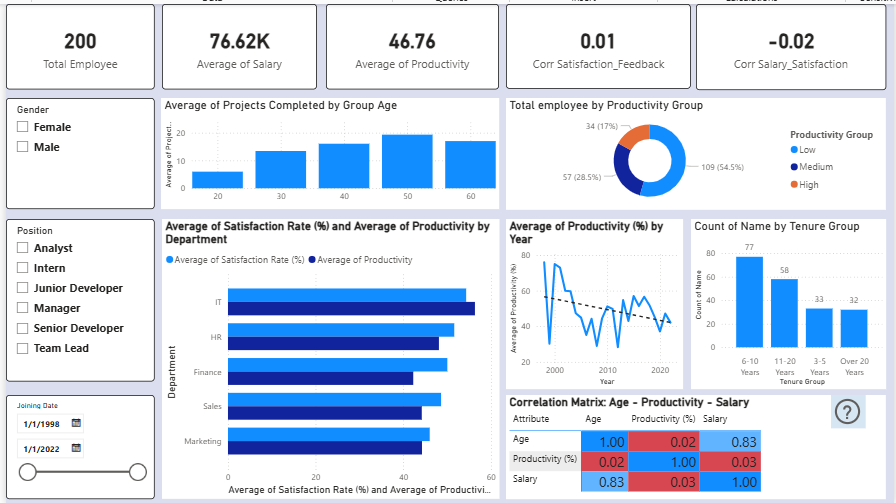

The dashboard page shown, as its layout file describes it:
{"tool":"powerbi","page":{"name":"Page 1","canvas":[1280,720],"ordinal":0},"visuals":[{"type":"clusteredBarChart","fields":{"Category":["cleaned_hr_data.Department"],"Y":["Avg(cleaned_hr_data.Satisfaction Rate (%))","cleaned_hr_data.Average_Productivity"]},"box":[224.3,310,485.7,402.9],"z":0},{"type":"card","fields":{"Values":["cleaned_hr_data.Average_Productivity"]},"box":[461.4,0,248.6,122.9],"z":1000},{"type":"card","fields":{"Values":["cleaned_hr_data.CorrelationScore"]},"box":[720,0,266.4,122.4],"z":2000},{"type":"clusteredColumnChart","fields":{"Category":["cleaned_hr_data.Group Age"],"Y":["Avg(cleaned_hr_data.Projects Completed)"]},"box":[222.9,135.7,487.1,160],"z":3000},{"type":"slicer","fields":{"Values":["cleaned_hr_data.Gender"]},"box":[0,135.7,214.3,160],"z":4000},{"type":"slicer","fields":{"Values":["cleaned_hr_data.Position"]},"box":[0,310,214.3,234.3],"z":5000},{"type":"lineChart","fields":{"Category":["cleaned_hr_data.Joining Date.Variation.Date Hierarchy.Year","cleaned_hr_data.Joining Date.Variation.Date Hierarchy.Quarter","cleaned_hr_data.Joining Date.Variation.Date Hierarchy.Month","cleaned_hr_data.Joining Date.Variation.Date Hierarchy.Day"],"Y":["Avg(cleaned_hr_data.Productivity (%))"]},"box":[720,309.6,254.9,244.8],"z":6000},{"type":"pivotTable","title":"Correlation Matrix: Age - Productivity - Salary","fields":{"Values":["cleaned_hr_data.Heatmap_Values"],"Rows":["Heatmap_Rows.Attribute"],"Columns":["Heatmap_Columns.Attribute"]},"box":[720,563,547.2,149.8],"z":7000},{"type":"card","fields":{"Values":["cleaned_hr_data.CorrelationScore_Salary_Satis"]},"box":[993.6,0,273.6,123.8],"z":8000},{"type":"card","fields":{"Values":["Count(cleaned_hr_data.Name)"]},"box":[0,0,214.3,122.9],"z":9000},{"type":"slicer","fields":{"Values":["cleaned_hr_data.Joining Date"]},"box":[0,562.9,214.3,150],"z":10000},{"type":"card","fields":{"Values":["Avg(cleaned_hr_data.Salary)"]},"box":[224.3,0,222.9,122.9],"z":11000},{"type":"donutChart","fields":{"Category":["cleaned_hr_data.Productivity Group"],"Y":["Count(cleaned_hr_data.Name)"]},"box":[720,135.4,547.2,161.3],"z":12000},{"type":"actionButton","box":[1188,563,50.4,47.5],"z":13000},{"type":"clusteredColumnChart","fields":{"Category":["cleaned_hr_data.Tenure Group"],"Y":["CountNonNull(cleaned_hr_data.Name)"]},"box":[986.4,309.6,280.8,244.8],"z":14000}]}

Visuals, with their boxes in screenshot pixels (x1, y1, x2, y2), scaled from the page's 1280x720 canvas onto the 896x503 screenshot:
clusteredBarChart - cleaned_hr_data.Department x Avg(cleaned_hr_data.Satisfaction Rate (%)): x1=157, y1=217, x2=497, y2=498
card - cleaned_hr_data.Average_Productivity: x1=323, y1=0, x2=497, y2=86
card - cleaned_hr_data.CorrelationScore: x1=504, y1=0, x2=690, y2=86
clusteredColumnChart - cleaned_hr_data.Group Age x Avg(cleaned_hr_data.Projects Completed): x1=156, y1=95, x2=497, y2=207
slicer - cleaned_hr_data.Gender: x1=0, y1=95, x2=150, y2=207
slicer - cleaned_hr_data.Position: x1=0, y1=217, x2=150, y2=380
lineChart - cleaned_hr_data.Joining Date.Variation.Date Hierarchy.Year x cleaned_hr_data.Joining Date.Variation.Date Hierarchy.Quarter: x1=504, y1=216, x2=682, y2=387
"Correlation Matrix: Age - Productivity - Salary" pivotTable: x1=504, y1=393, x2=887, y2=498
card - cleaned_hr_data.CorrelationScore_Salary_Satis: x1=696, y1=0, x2=887, y2=86
card - Count(cleaned_hr_data.Name): x1=0, y1=0, x2=150, y2=86
slicer - cleaned_hr_data.Joining Date: x1=0, y1=393, x2=150, y2=498
card - Avg(cleaned_hr_data.Salary): x1=157, y1=0, x2=313, y2=86
donutChart - cleaned_hr_data.Productivity Group x Count(cleaned_hr_data.Name): x1=504, y1=95, x2=887, y2=207
actionButton: x1=832, y1=393, x2=867, y2=427
clusteredColumnChart - cleaned_hr_data.Tenure Group x CountNonNull(cleaned_hr_data.Name): x1=690, y1=216, x2=887, y2=387
